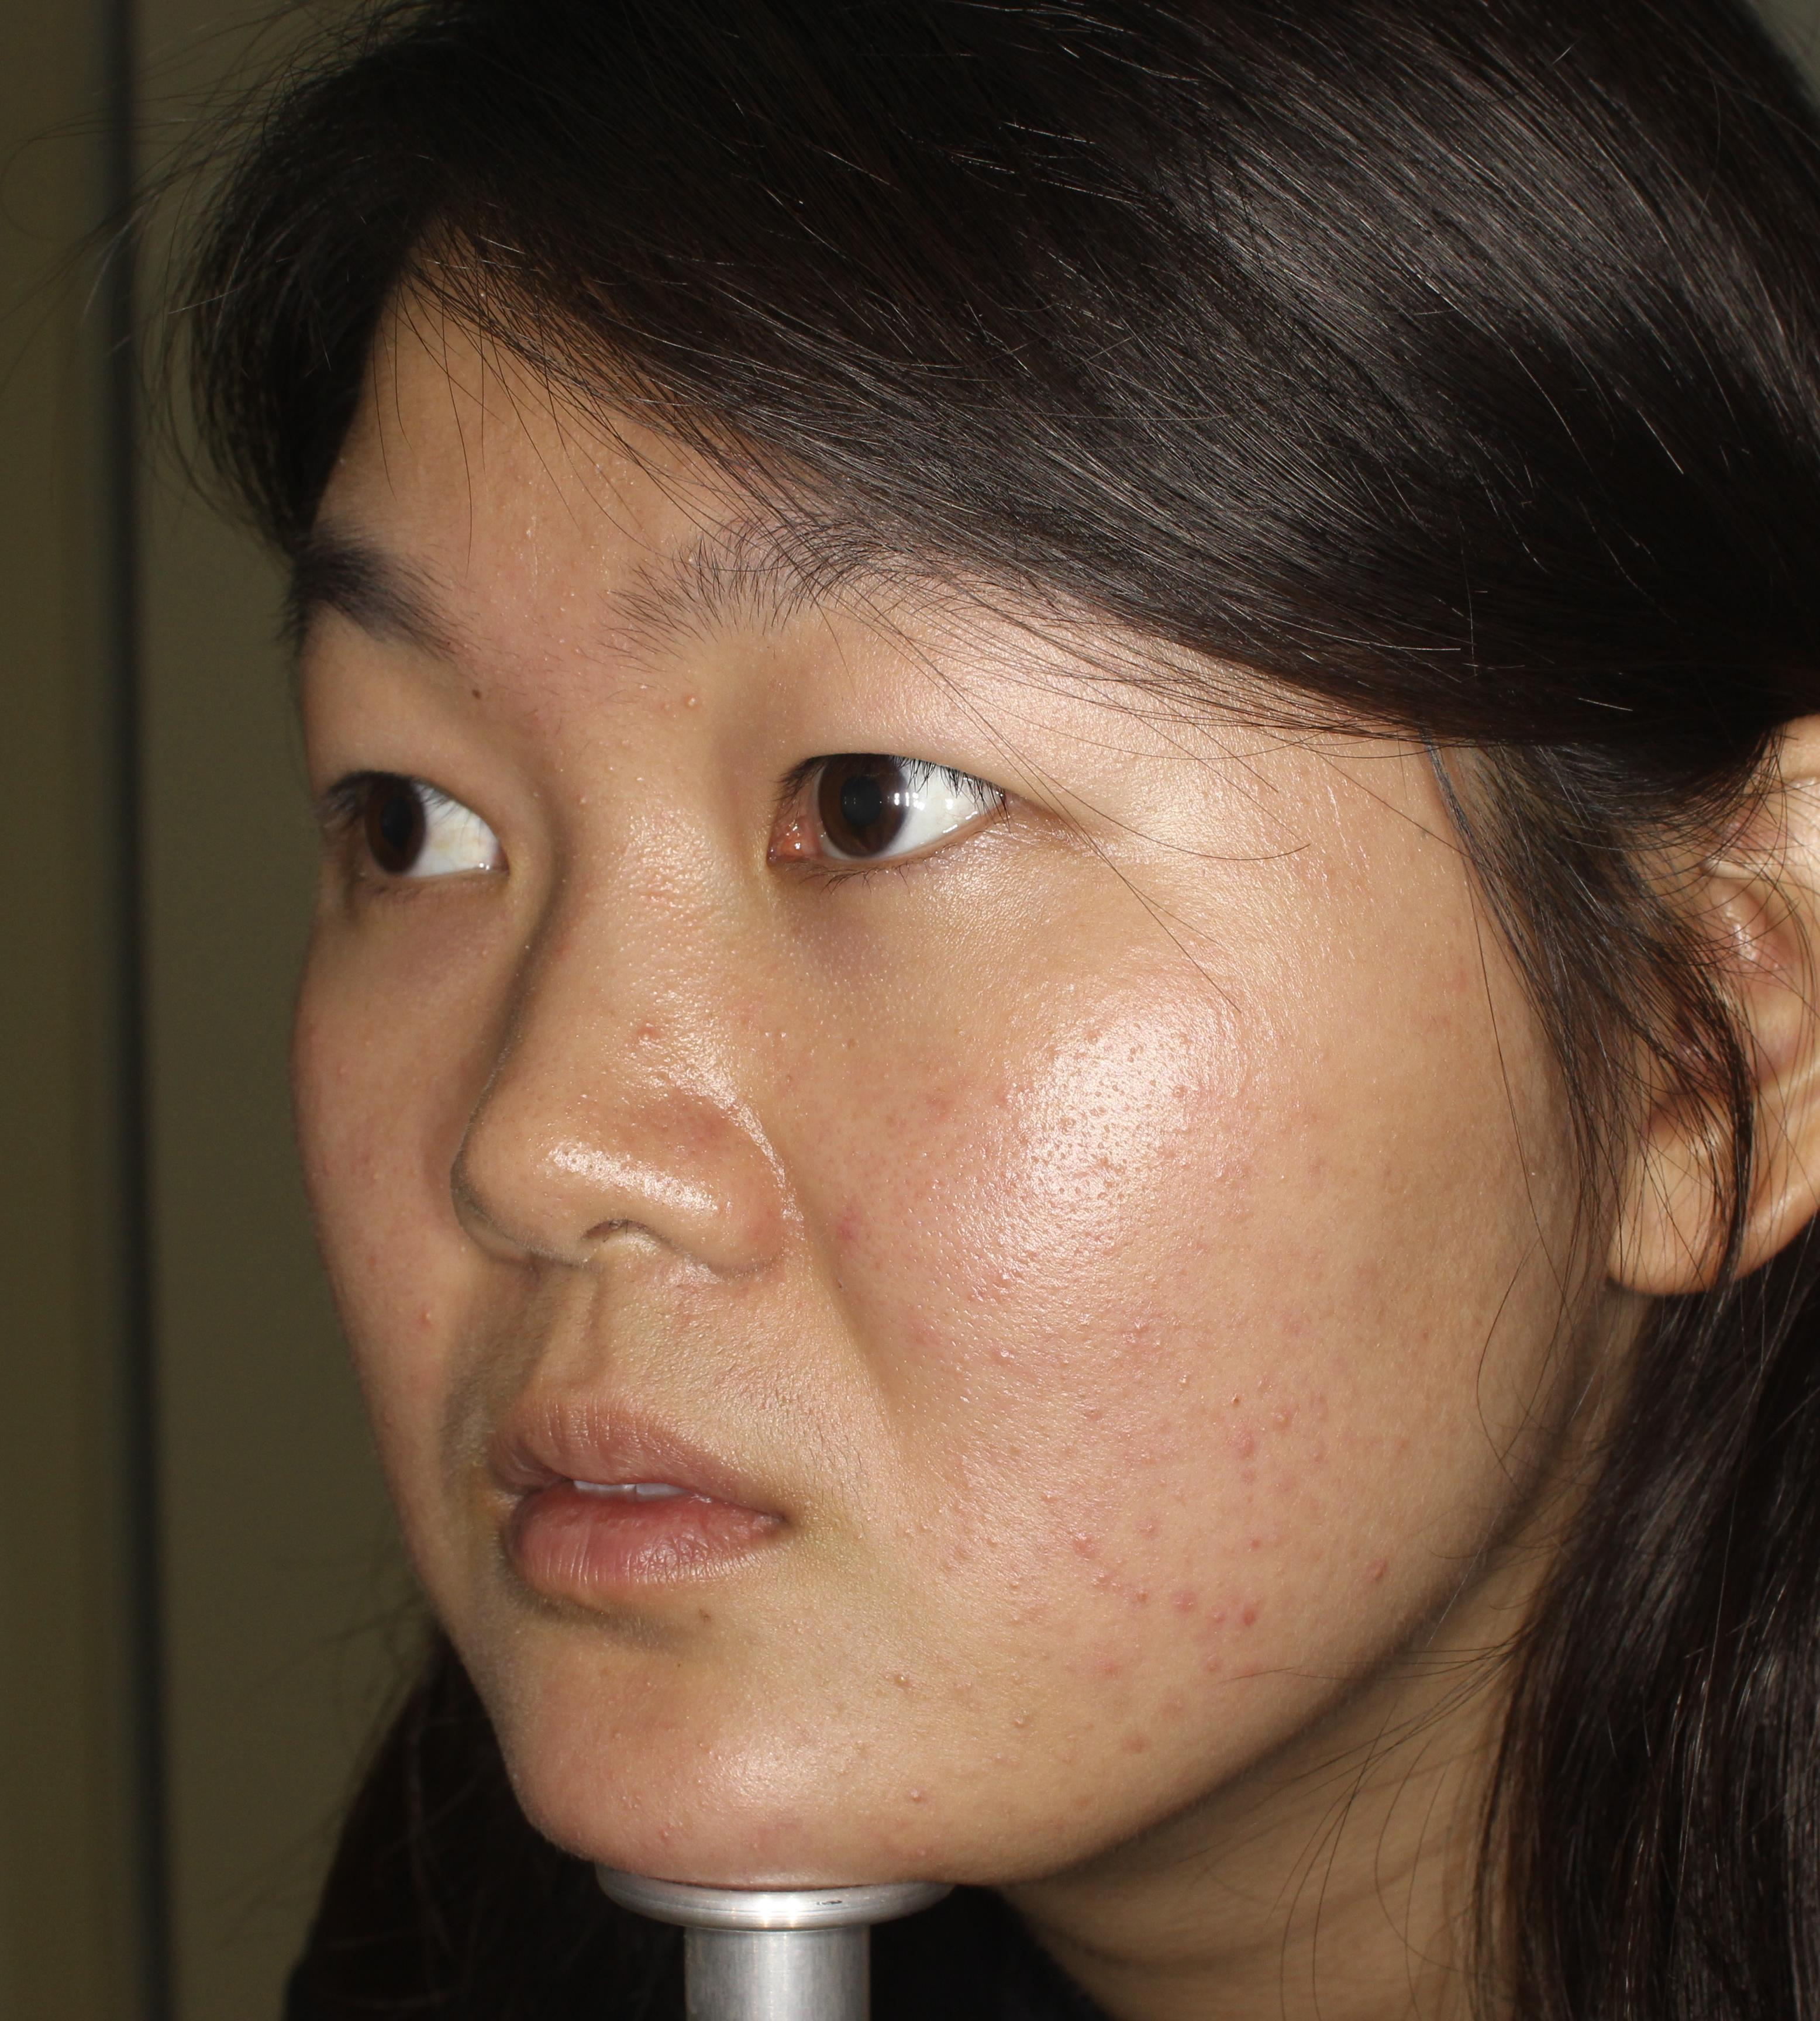fore: (826, 1196, 889, 1257)
